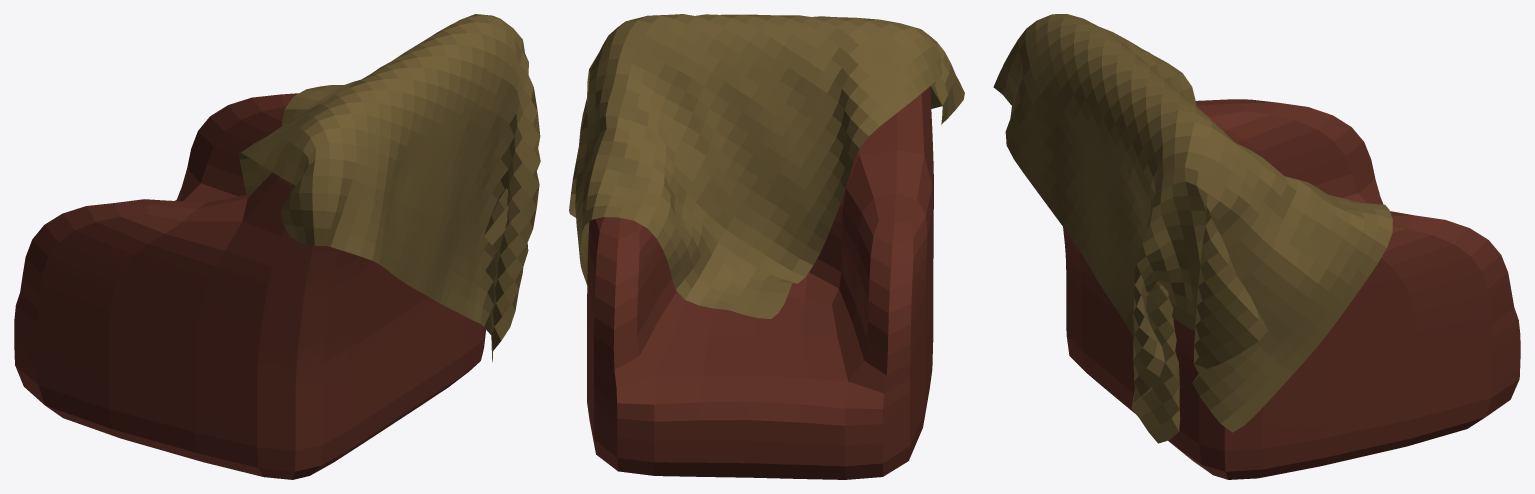
The model's file is fotoliu sufragerie.fbx.
3 renders of one model, left to right at view 1: azimuth 30°, elevation 25°; view 2: azimuth 150°, elevation 25°; view 3: azimuth 270°, elevation 25°, orthographic. The views are drawn at different scales.
Parts seen in each view (by area): view 1: Cube.041; view 2: Cube.041; view 3: Cube.041.
Boxes of the visible parts, box(x1,y1,x2,y2) form: Cube.041: box(14, 14, 540, 479); Cube.041: box(569, 14, 964, 479); Cube.041: box(993, 14, 1520, 479).
Size of the model in its own units: 174 by 147 by 190.
